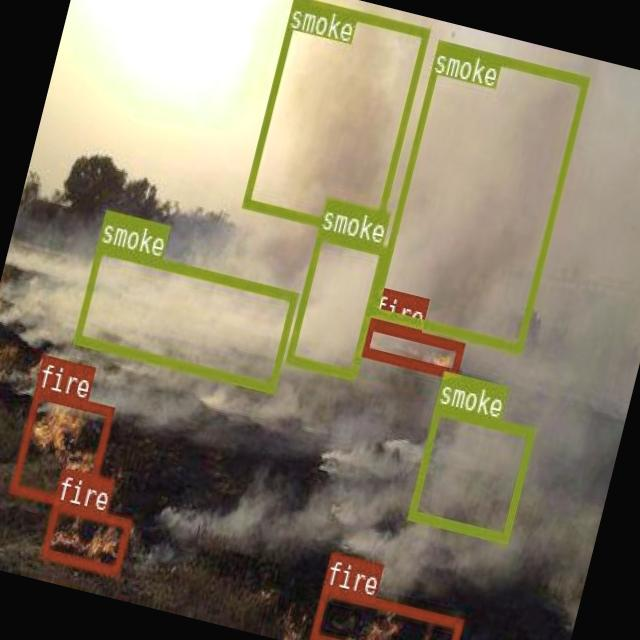fire: (8, 386, 113, 511), (308, 583, 462, 640), (38, 498, 132, 574), (359, 318, 464, 377)
smoke: (368, 37, 588, 352), (241, 0, 429, 239), (72, 240, 297, 392), (407, 402, 535, 540), (284, 228, 386, 378)
